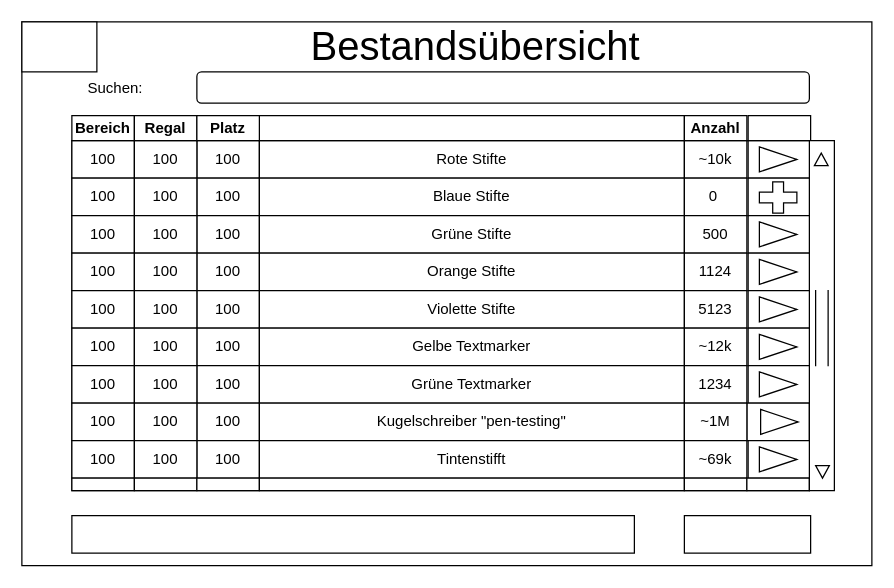
The diagram is 894 pixels wide and 588 high, and some of its shapes have lost their labels. Each missing label, with the centre of its shape:
"Filteroptionen: Categorie, Anzahl, Bereich, Regal, Platz" belongs at point (352, 533).
"Menü" belongs at point (59, 46).
"Neuer Artikel" belongs at point (747, 533).
"Produktname" belongs at point (471, 127).
